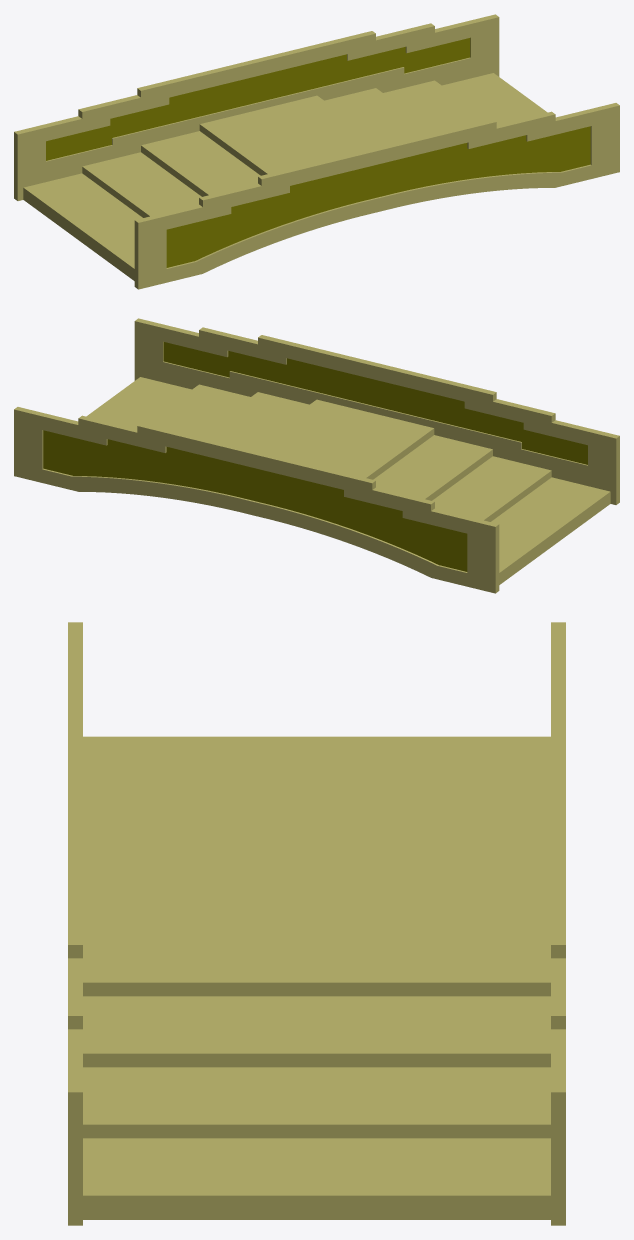
Rendered from Prop_Jungle_Temple_Bridge_01.FBX.
3 renders of one model, top to bottom at view 1: azimuth 30°, elevation 25°; view 2: azimuth 150°, elevation 25°; view 3: azimuth 270°, elevation 25°, orthographic. The views are drawn at different scales.
Parts seen in each view (by area): view 1: Prop_Jungle_Temple_Bridge_01; view 2: Prop_Jungle_Temple_Bridge_01; view 3: Prop_Jungle_Temple_Bridge_01.
Boxes of the visible parts, box(x1,y1,x2,y2) form: Prop_Jungle_Temple_Bridge_01: box(14, 14, 619, 289); Prop_Jungle_Temple_Bridge_01: box(14, 318, 619, 593); Prop_Jungle_Temple_Bridge_01: box(68, 622, 565, 1225).
Size of the model in its own units: 8931 by 1422 by 3998.
